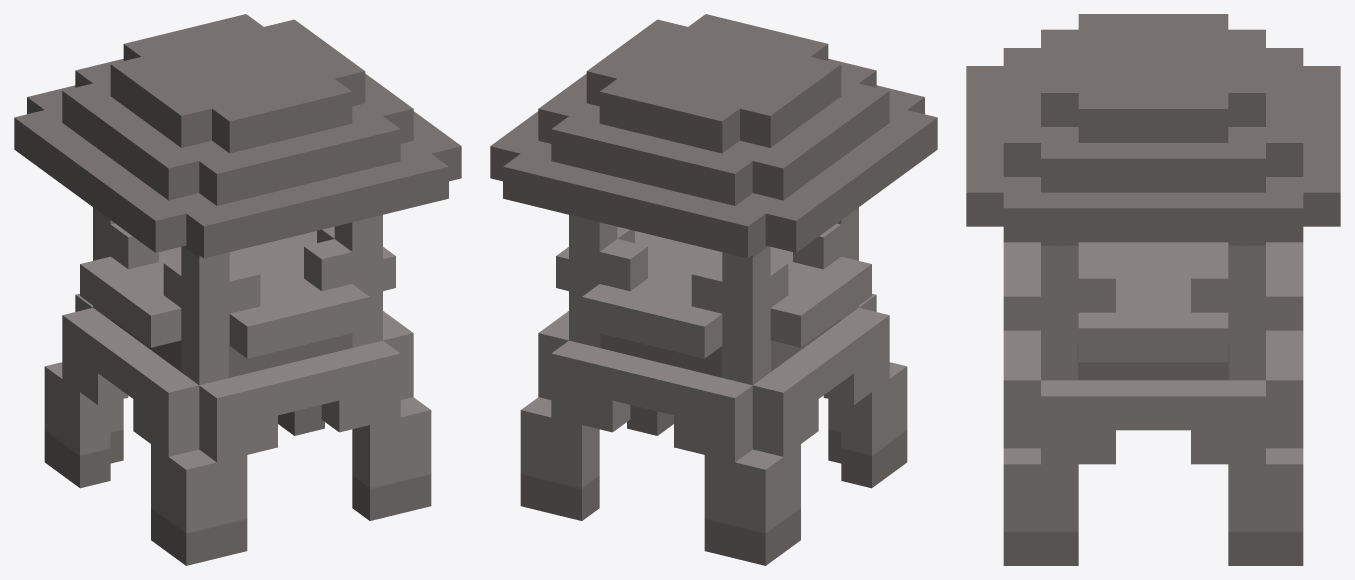
The model's file is Toro 01.fbx.
3 renders of one model, left to right at view 1: azimuth 30°, elevation 25°; view 2: azimuth 150°, elevation 25°; view 3: azimuth 270°, elevation 25°, orthographic. The views are drawn at different scales.
Parts seen in each view (by area): view 1: Toro 01 CLEANED; view 2: Toro 01 CLEANED; view 3: Toro 01 CLEANED.
Part boxes in pixels (box(x1,y1,x2,y2)): Toro 01 CLEANED: box(14, 14, 461, 565); Toro 01 CLEANED: box(490, 14, 937, 565); Toro 01 CLEANED: box(966, 14, 1340, 565).
Size of the model in its own units: 100 by 130 by 100.
Materials: 1 (1 with a texture image).
